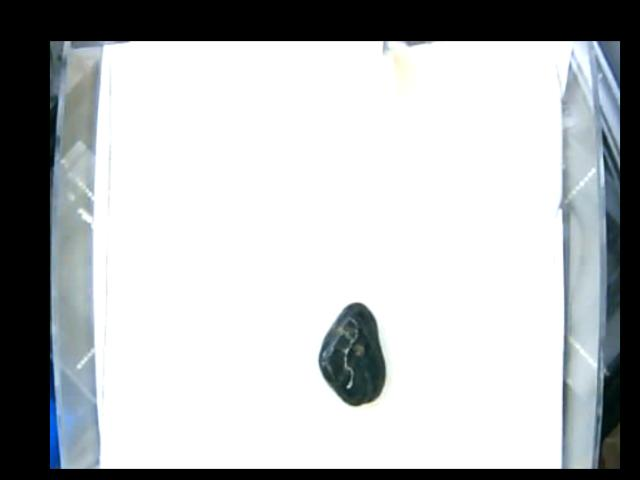Pebble: (319, 301, 386, 407)
